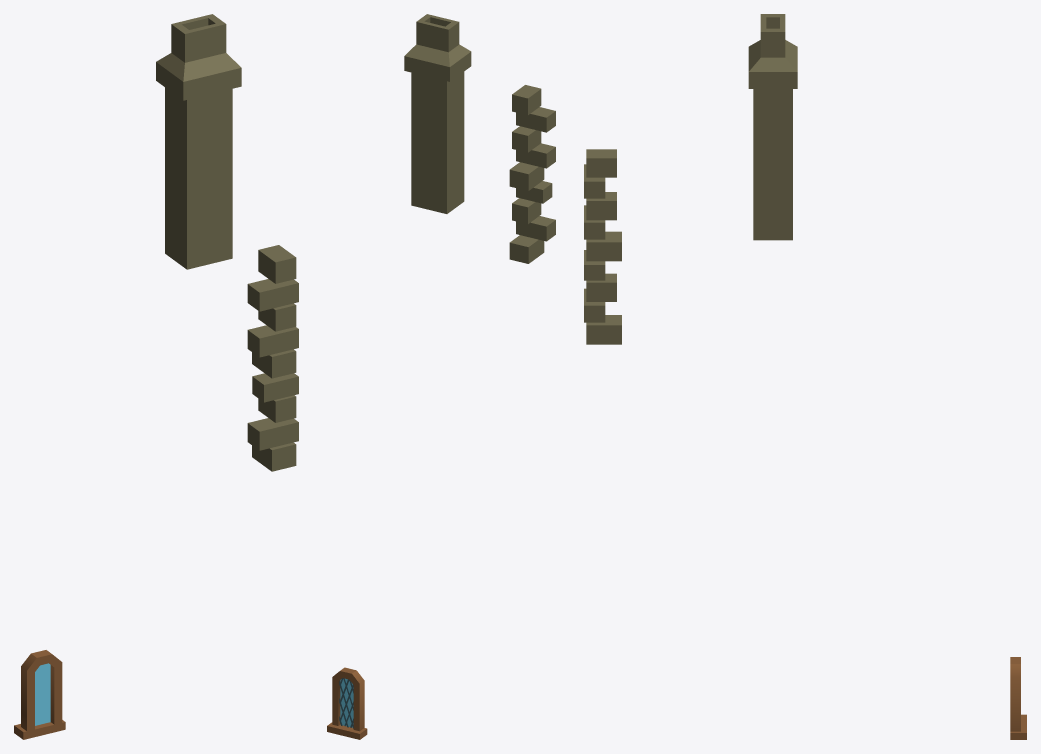
The picture shows the model from 3 angles, left to right: view 1: azimuth 30°, elevation 25°; view 2: azimuth 150°, elevation 25°; view 3: azimuth 270°, elevation 25°; orthographic projection. The views are drawn at different scales.
Parts seen in each view (by area): view 1: Box15728_rock2_0, Box15747_rock2_0, Plane311_brown_0, Plane313_mirror_0, Box15368_brown_0; view 2: Box15728_rock2_0, Box15747_rock2_0, Plane311_brown_0, Plane313_mirror_0, Plane312_metal_0, Box15368_brown_0; view 3: Box15728_rock2_0, Box15747_rock2_0, Plane311_brown_0.
Part boxes in pixels (x1,y1,x2,y2): Box15728_rock2_0: (156, 14, 241, 269); Box15747_rock2_0: (247, 245, 298, 471); Plane311_brown_0: (21, 650, 62, 731); Plane313_mirror_0: (35, 663, 50, 725); Box15368_brown_0: (14, 720, 65, 739); Box15728_rock2_0: (404, 14, 471, 213); Box15747_rock2_0: (509, 85, 555, 263); Plane311_brown_0: (332, 667, 364, 731); Plane313_mirror_0: (340, 678, 353, 727); Plane312_metal_0: (339, 678, 353, 728); Box15368_brown_0: (327, 722, 367, 739); Box15728_rock2_0: (748, 14, 797, 240); Box15747_rock2_0: (584, 149, 621, 344); Plane311_brown_0: (1010, 657, 1020, 731).
Bounding box in the file's own units: 142 × 1468 × 822.
